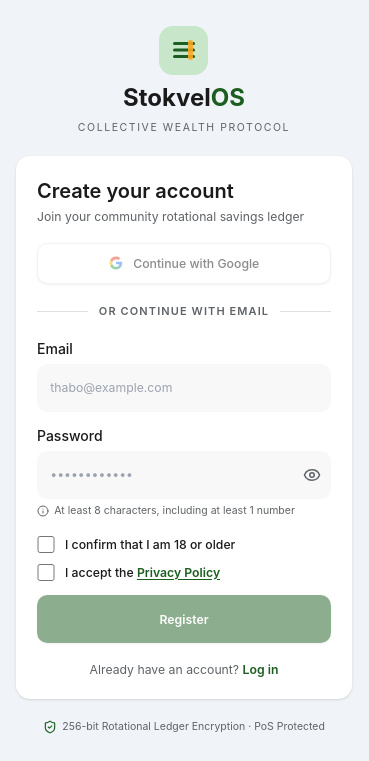
it: T-US1-1 / T-S2-1 Sign Up (S2) › T-AUTH-1 shows the exact password rule as a red error on weak input
Type "abcdefgh" into the password field labelled "Password" at (184, 475), box [37,451,331,499]
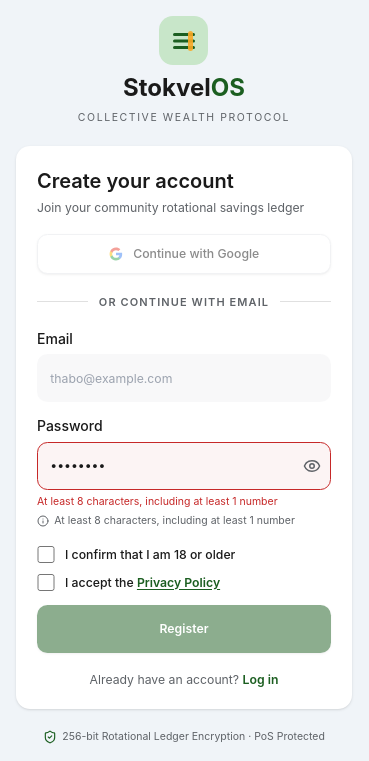
Expected: the text "At least 8 characters, including at least 1 number" is shown, [37,495,278,508]
